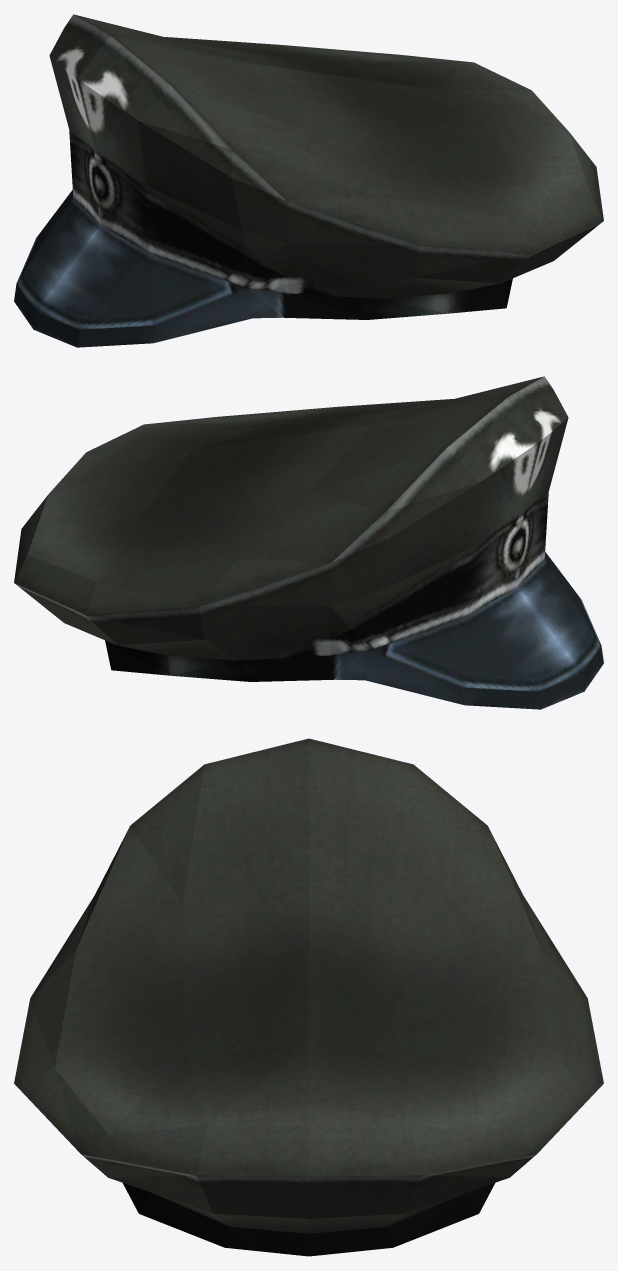
The model's file is Panda_germanHat.obj.
The picture shows the model from 3 angles, top to bottom: view 1: azimuth 30°, elevation 25°; view 2: azimuth 150°, elevation 25°; view 3: azimuth 270°, elevation 25°; orthographic projection. The views are drawn at different scales.
Visible parts, largest first — view 1: Panda_germanHat_tri; view 2: Panda_germanHat_tri; view 3: Panda_germanHat_tri.
Boxes of the visible parts, <box> form: Panda_germanHat_tri: <box>14,14,603,347</box>; Panda_germanHat_tri: <box>14,376,603,709</box>; Panda_germanHat_tri: <box>14,738,603,1256</box>.
Size of the model in its own units: 0.5893 by 0.3269 by 0.5407.
1 material, 1 textured.
